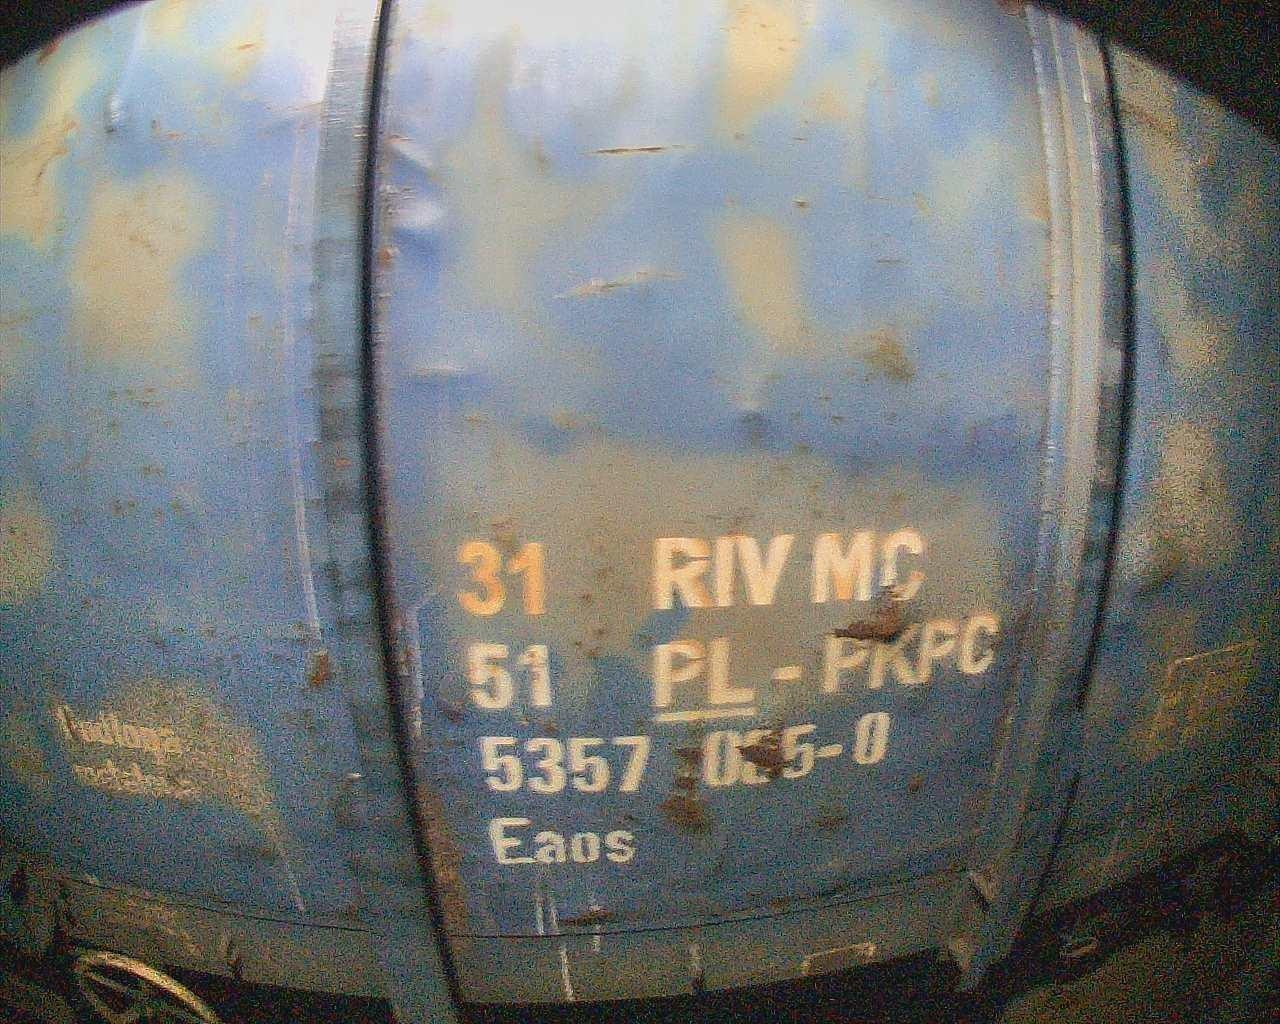UIC: (449, 528, 1004, 869)
